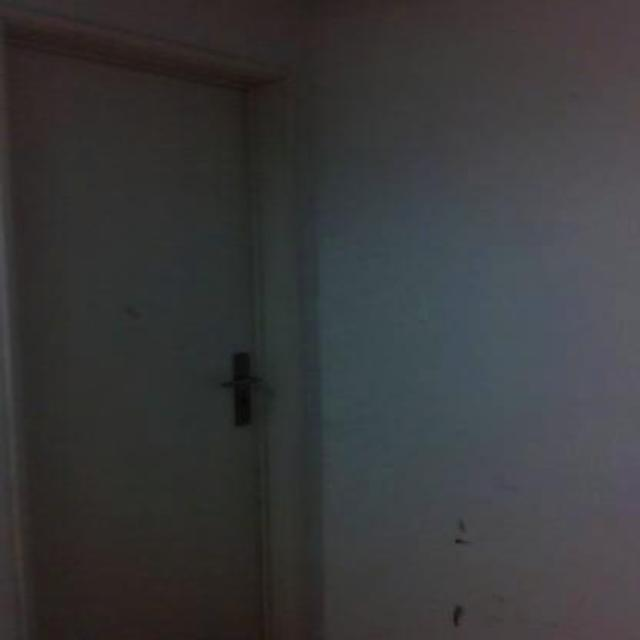door: (0, 11, 288, 639)
